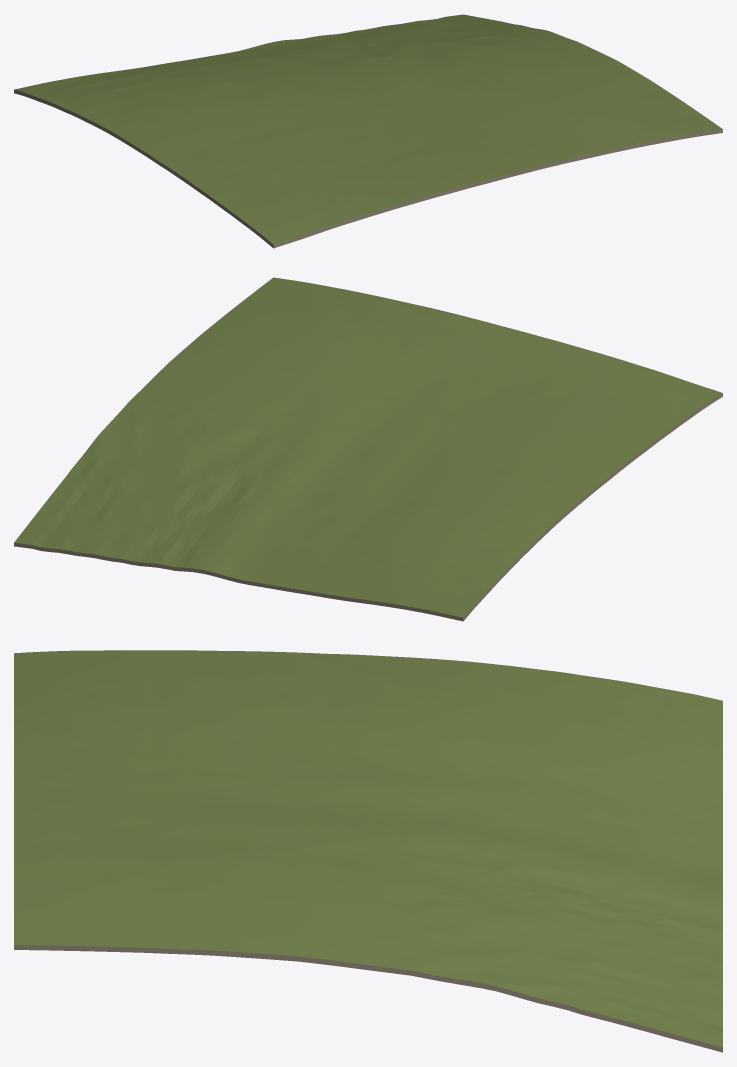
The model's file is parca_+7_+0-uzak.glb.
3 renders of one model, top to bottom at view 1: azimuth 30°, elevation 25°; view 2: azimuth 150°, elevation 25°; view 3: azimuth 270°, elevation 25°, orthographic. The views are drawn at different scales.
Parts seen in each view (by area): view 1: parca_+7_+0_arazi_uzak; view 2: parca_+7_+0_arazi_uzak; view 3: parca_+7_+0_arazi_uzak.
Boxes of the visible parts, bbox=[...] form: parca_+7_+0_arazi_uzak: bbox=[14, 14, 722, 248]; parca_+7_+0_arazi_uzak: bbox=[14, 277, 722, 621]; parca_+7_+0_arazi_uzak: bbox=[14, 650, 722, 1052].
Size of the model in its own units: 1000 by 185 by 1000.
